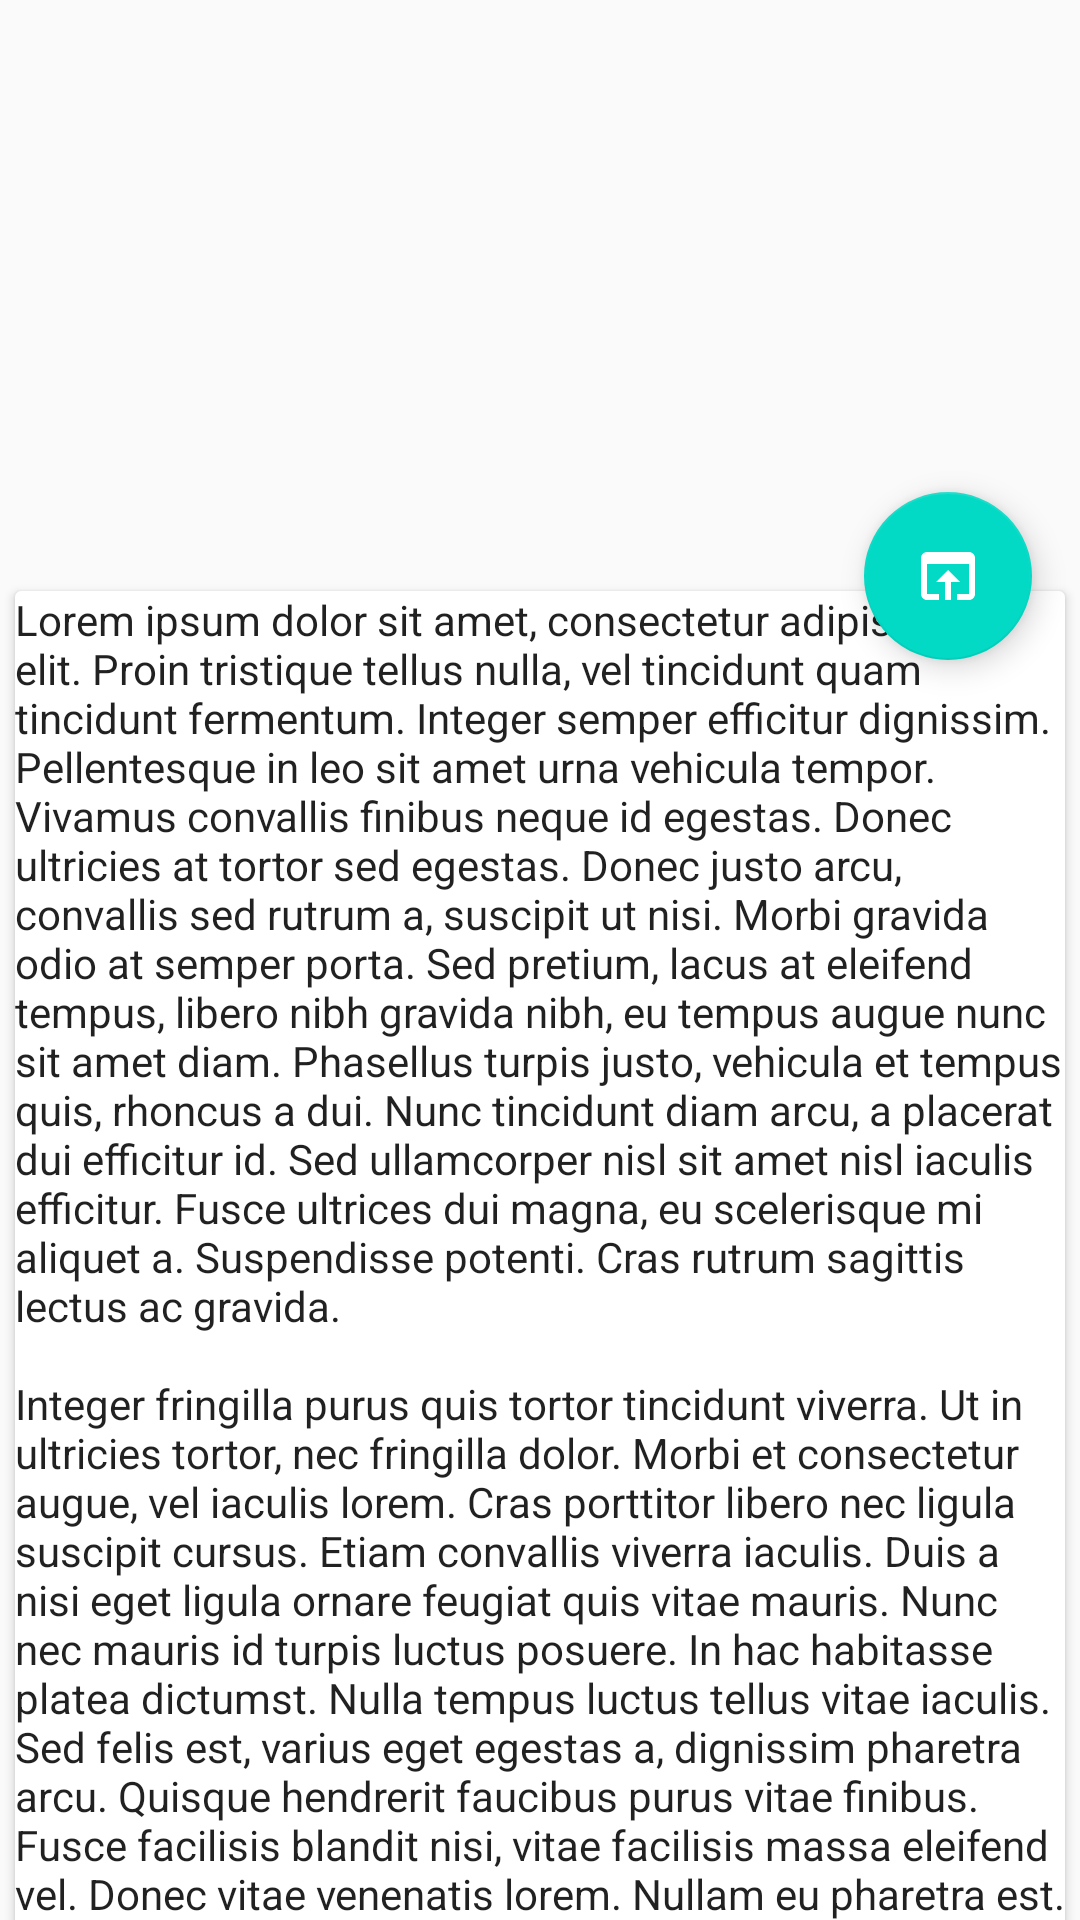

Where to tap for icons on this 1080 x 1920 app screen, as (x,y):
open in browser: (948,576)
